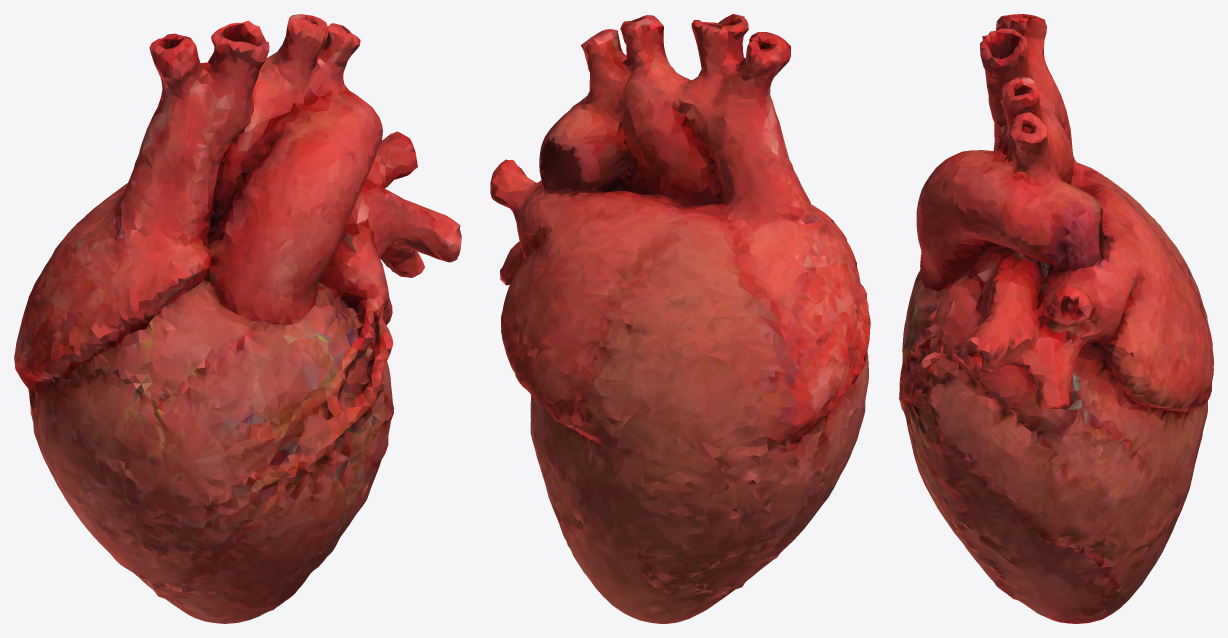
The model's file is heart-model-1.glb.
3 views of the same model, side by side, from view 1: azimuth 30°, elevation 25°; view 2: azimuth 150°, elevation 25°; view 3: azimuth 270°, elevation 25° (orthographic). The views are drawn at different scales.
Visible parts, largest first — view 1: Corazon_que_resalte_l_0328180411_texture; view 2: Corazon_que_resalte_l_0328180411_texture; view 3: Corazon_que_resalte_l_0328180411_texture.
Part boxes in pixels (bbox=[...]): Corazon_que_resalte_l_0328180411_texture: bbox=[14, 14, 461, 623]; Corazon_que_resalte_l_0328180411_texture: bbox=[490, 14, 870, 623]; Corazon_que_resalte_l_0328180411_texture: bbox=[899, 14, 1213, 623].
Size of the model in its own units: 1.3 by 2 by 1.
Materials: 1 (1 with a texture image).
